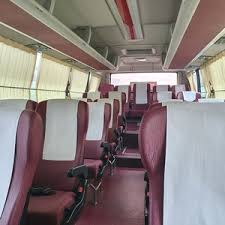seat: (37, 101, 91, 223)
